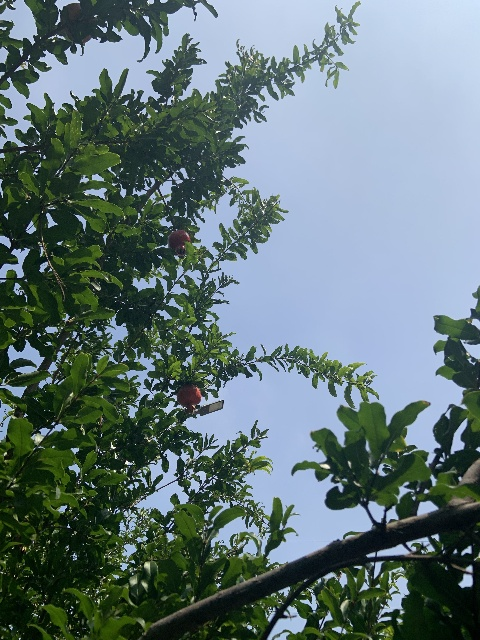ripe: (176, 384, 201, 413), (167, 229, 190, 256)
